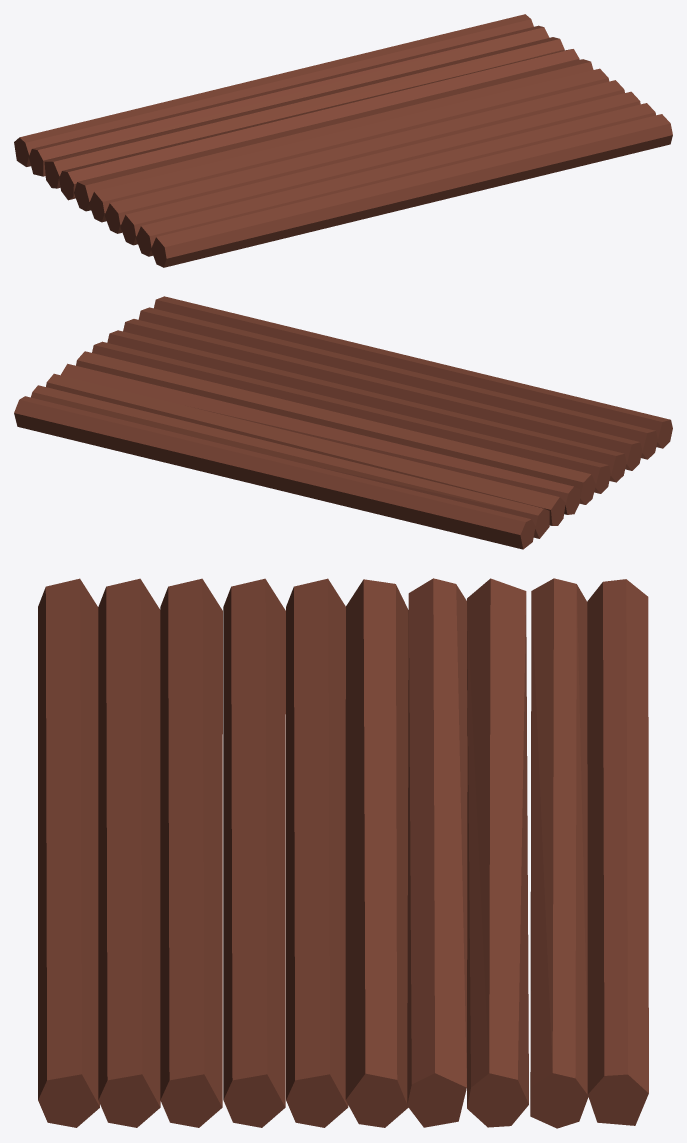
Rendered from Ponte-V2.fbx.
3 views of the same model, one above another, from view 1: azimuth 30°, elevation 25°; view 2: azimuth 150°, elevation 25°; view 3: azimuth 270°, elevation 25° (orthographic). The views are drawn at different scales.
Visible parts, largest first — view 1: Cylinder; view 2: Cylinder; view 3: Cylinder.
Boxes of the visible parts, box(x1,y1,x2,y2) form: Cylinder: box(14, 14, 672, 267); Cylinder: box(14, 296, 672, 549); Cylinder: box(38, 578, 648, 1128).
Bounding box in the file's own units: 194 × 10.29 × 101.
